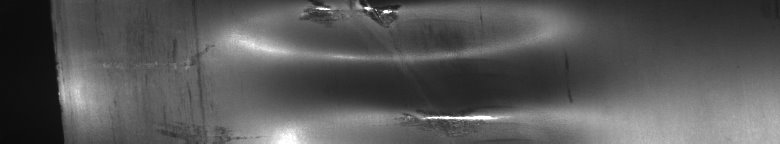ke: (300, 4, 572, 136)
